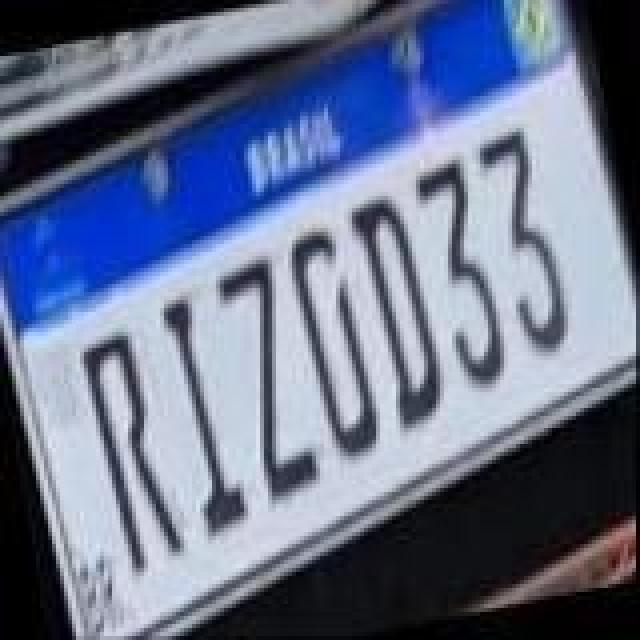3: (472, 122, 580, 366), (410, 158, 514, 398)
D: (344, 188, 452, 432), (282, 224, 386, 460)
I: (158, 290, 254, 538)
R: (76, 326, 192, 578)
Z: (214, 258, 326, 506)
